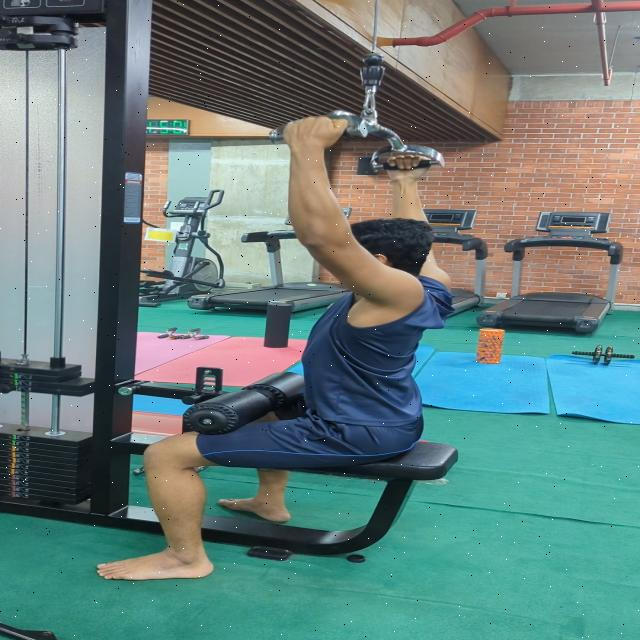Normal_LatPulldown: (83, 103, 498, 587)
